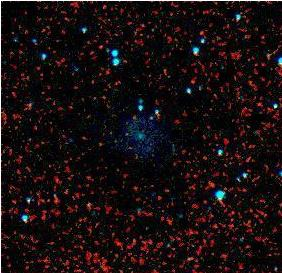star: (84, 30, 114, 60)
